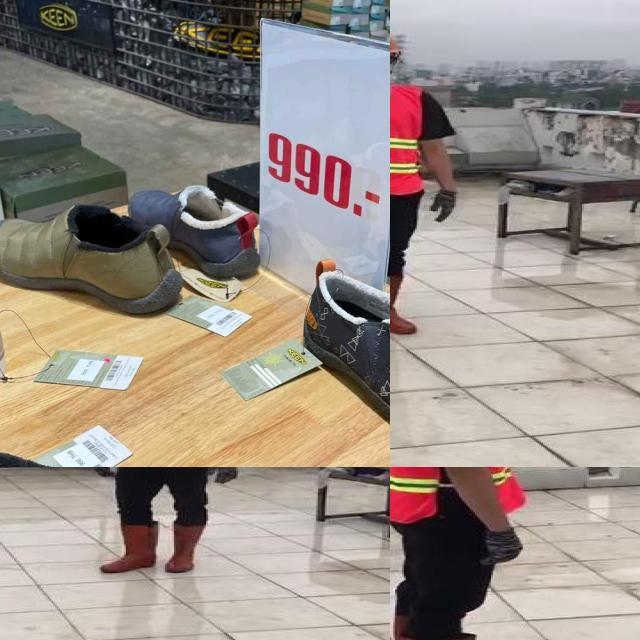Sandals: (297, 241, 390, 467)
boots: (101, 524, 158, 572), (163, 524, 206, 573), (390, 272, 420, 335)
hand_glove: (480, 527, 525, 570), (429, 190, 456, 224), (206, 467, 238, 483), (94, 467, 117, 479)
person: (390, 467, 540, 640), (390, 27, 465, 337), (76, 467, 250, 578)
vest: (390, 467, 524, 522), (390, 85, 423, 196)
